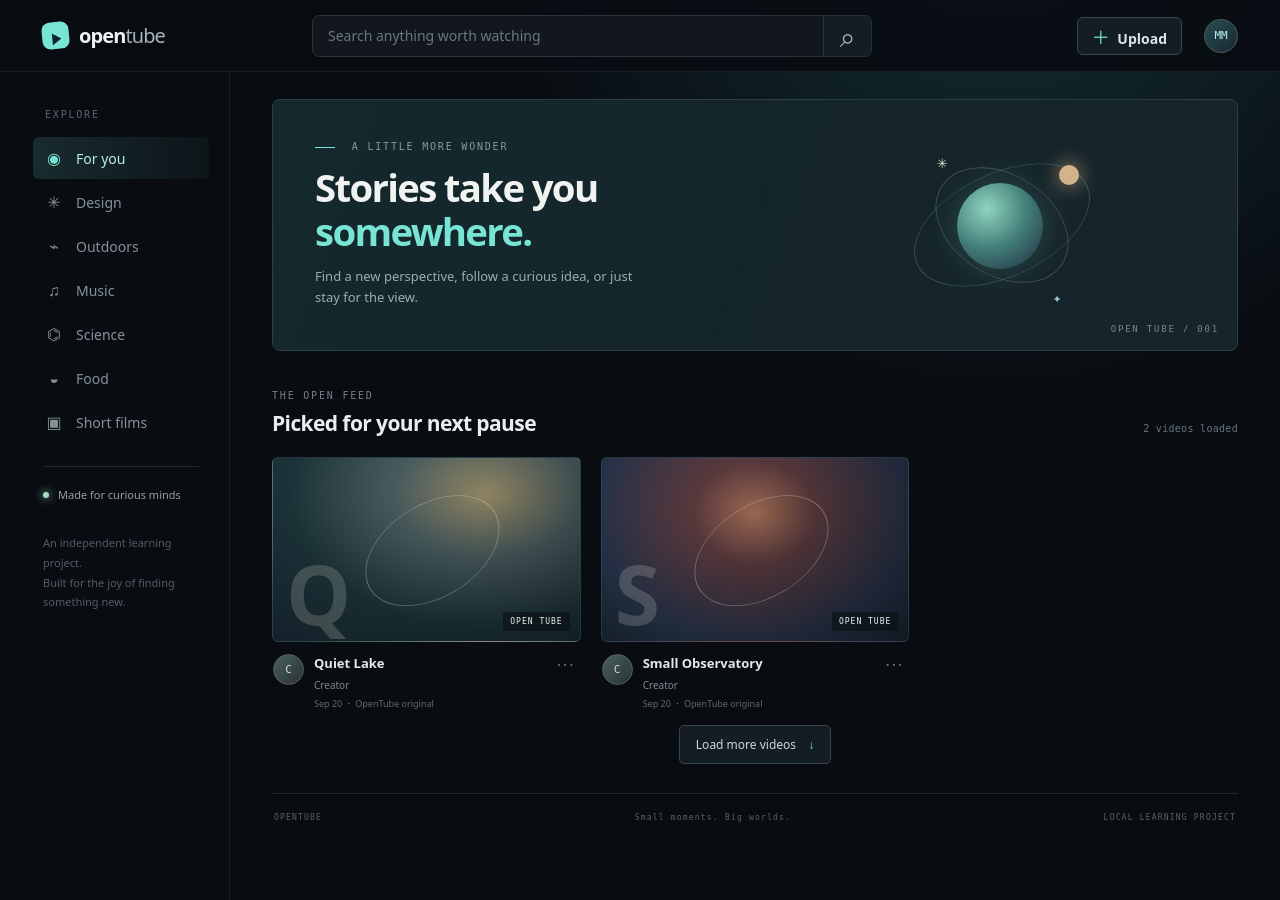
Test: OpenTube feed and creator flows › renders a video page and appends the next page without duplicates
What coordinates should you click on to do the following:
click the button with class "load-more"
I would click on:
 (755, 744)
Its box is [679,725,831,764].
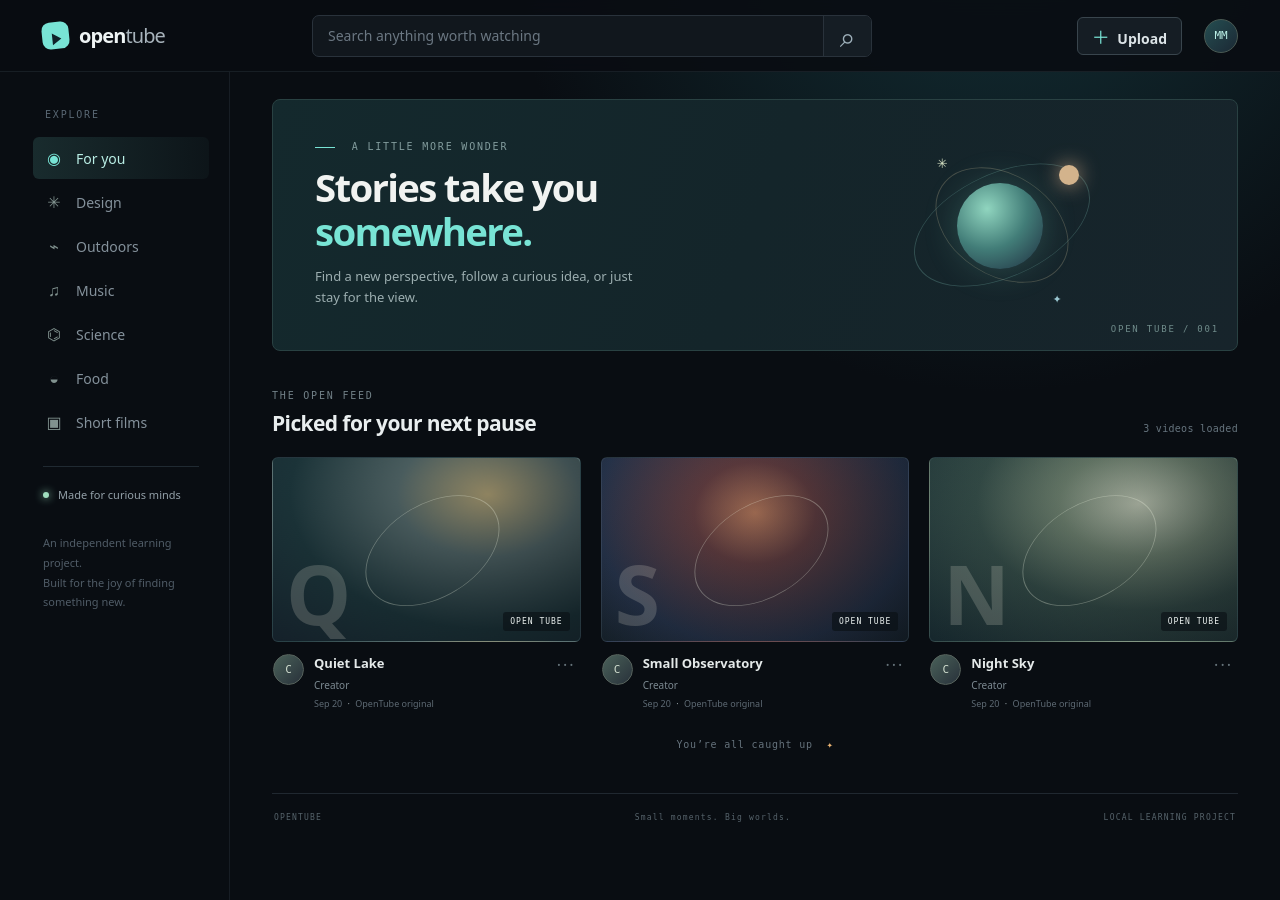
Expected: the elements with class "card-title" read "Quiet Lake", "Small Observatory", "Night Sky", in this order, [314,654,543,673]; [643,654,872,673]; [971,654,1200,673]
